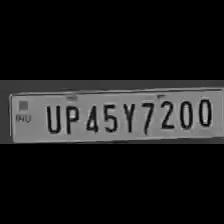0: (194, 96, 214, 128), (176, 97, 194, 129)
2: (155, 96, 175, 132)
4: (80, 100, 100, 134)
5: (98, 100, 119, 134)
7: (137, 98, 155, 134)
P: (60, 102, 80, 134)
U: (41, 102, 61, 134)
Y: (119, 98, 136, 134)
